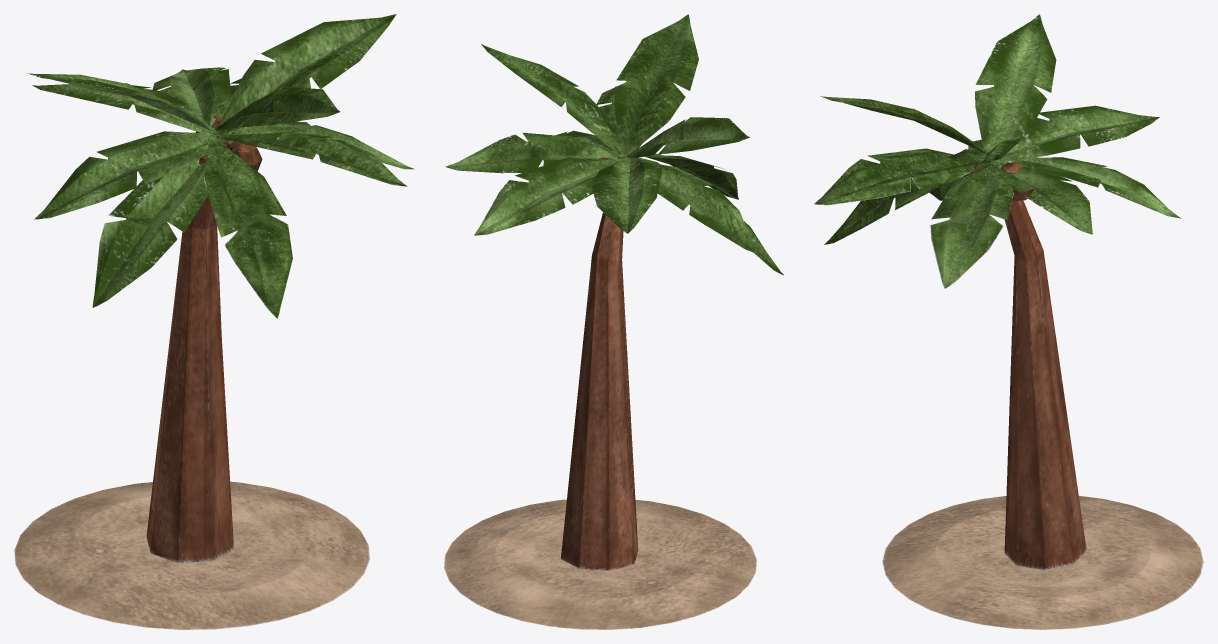
Rendered from palmera_.obj.
3 views of the same model, side by side, from view 1: azimuth 30°, elevation 25°; view 2: azimuth 150°, elevation 25°; view 3: azimuth 270°, elevation 25° (orthographic). The views are drawn at different scales.
Parts seen in each view (by area): view 1: Plane.007, Cylinder, Cylinder.001; view 2: Plane.007, Cylinder, Cylinder.001; view 3: Plane.007, Cylinder, Cylinder.001.
Boxes of the visible parts, box(x1,y1,x2,y2) form: Plane.007: box(28, 14, 414, 318); Cylinder: box(14, 481, 369, 629); Cylinder.001: box(146, 129, 233, 562); Plane.007: box(445, 14, 783, 275); Cylinder: box(444, 499, 756, 629); Cylinder.001: box(561, 212, 638, 570); Plane.007: box(814, 14, 1181, 288); Cylinder: box(882, 495, 1203, 629); Cylinder.001: box(997, 162, 1086, 569).
Size of the model in its own units: 7.33 by 10.9 by 8.08.
1 material, 1 textured.
